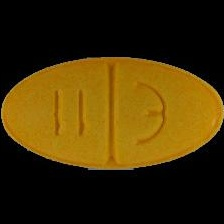42806-011: (0, 0, 224, 224)
